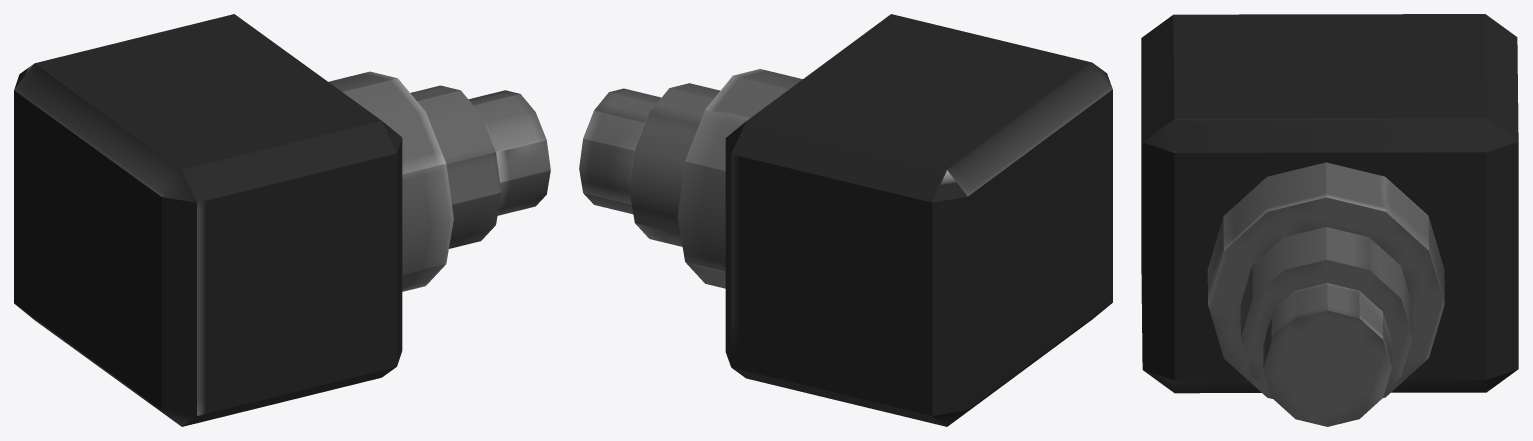
File: Camera.fbx
The picture shows the model from 3 angles, left to right: view 1: azimuth 30°, elevation 25°; view 2: azimuth 150°, elevation 25°; view 3: azimuth 270°, elevation 25°; orthographic projection. The views are drawn at different scales.
Visible parts, largest first — view 1: Camera; view 2: Camera; view 3: Camera.
Part boxes in pixels (box(x1,y1,x2,y2)): Camera: box(14, 14, 550, 426); Camera: box(579, 14, 1112, 426); Camera: box(1141, 14, 1518, 426).
Size of the model in its own units: 62.05 by 35.2 by 43.88.
